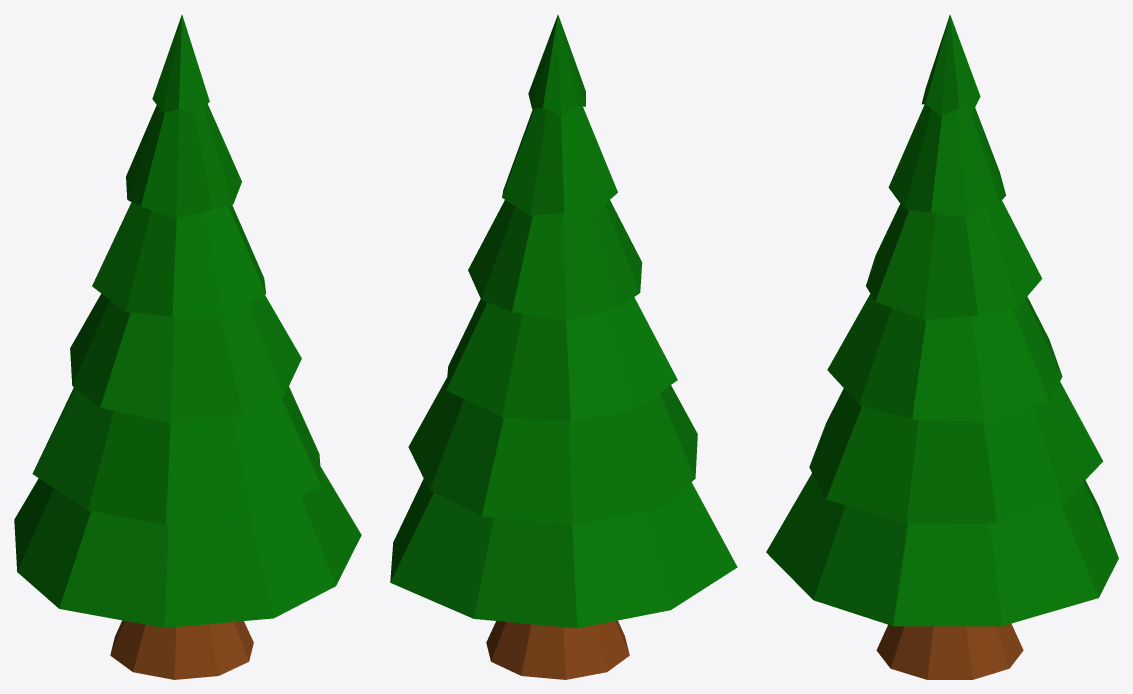
The model's file is Fir.fbx.
3 views of the same model, side by side, from view 1: azimuth 30°, elevation 25°; view 2: azimuth 150°, elevation 25°; view 3: azimuth 270°, elevation 25° (orthographic).
Parts seen in each view (by area): view 1: Cylinder.001; view 2: Cylinder.001; view 3: Cylinder.001.
Boxes of the visible parts, x1=… form: Cylinder.001: x1=14, y1=14, x2=361, y2=679; Cylinder.001: x1=390, y1=14, x2=737, y2=679; Cylinder.001: x1=766, y1=14, x2=1118, y2=679.
Bounding box in the file's own units: 375 × 752 × 378.
